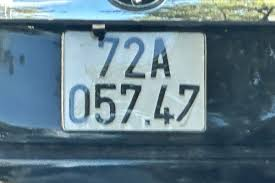Bien-so: (62, 29, 207, 133)
